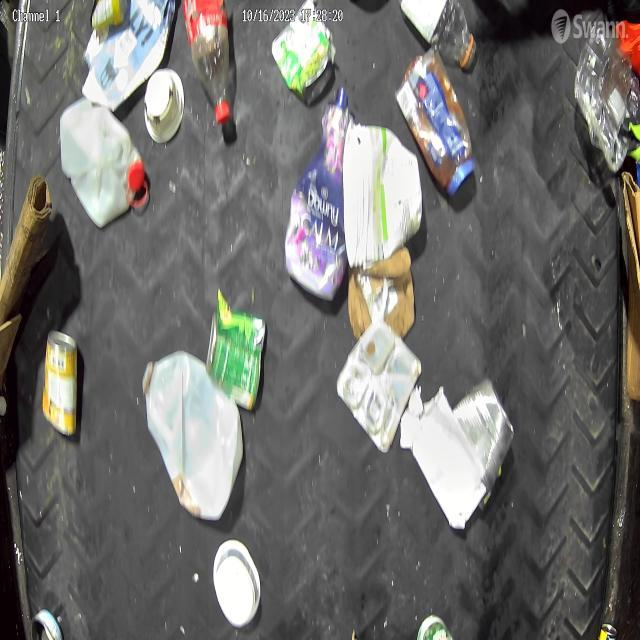can: (200, 292, 268, 418), (451, 371, 514, 493), (38, 324, 82, 444)
milk_jug: (138, 352, 242, 520), (58, 83, 148, 231)
non_white_jug: (286, 83, 353, 313)
plastic_bottle: (181, 0, 234, 144)
